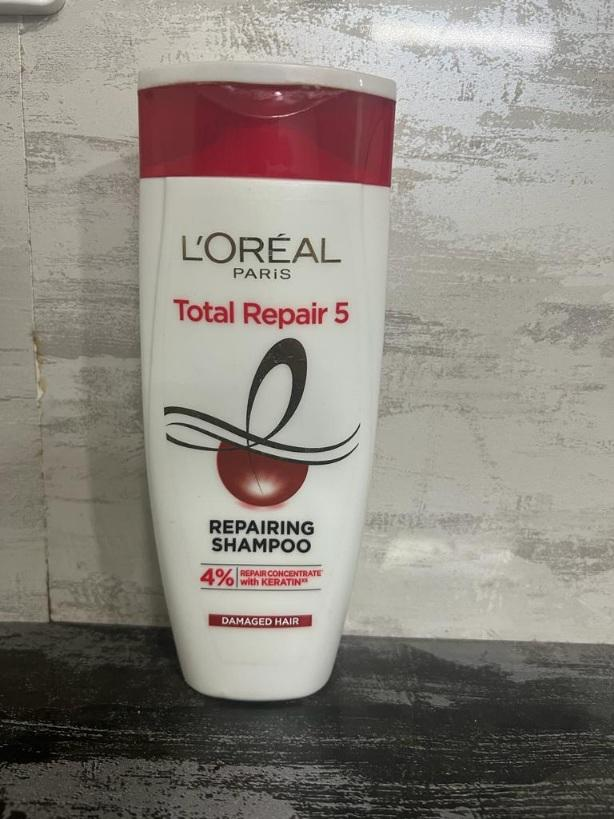Loreal: (139, 69, 395, 697)
